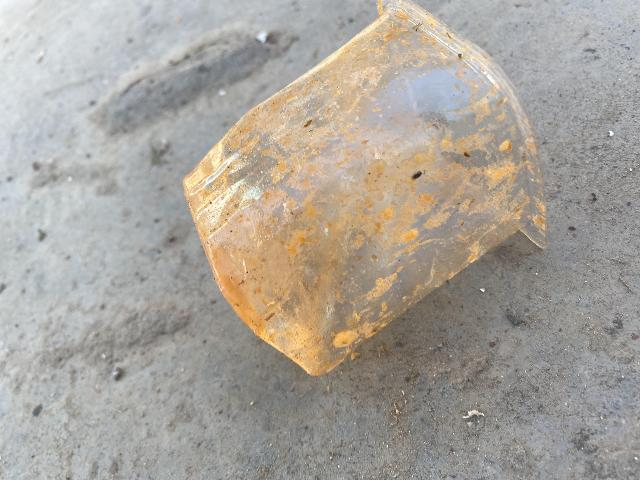Plastik: (176, 3, 556, 373)
